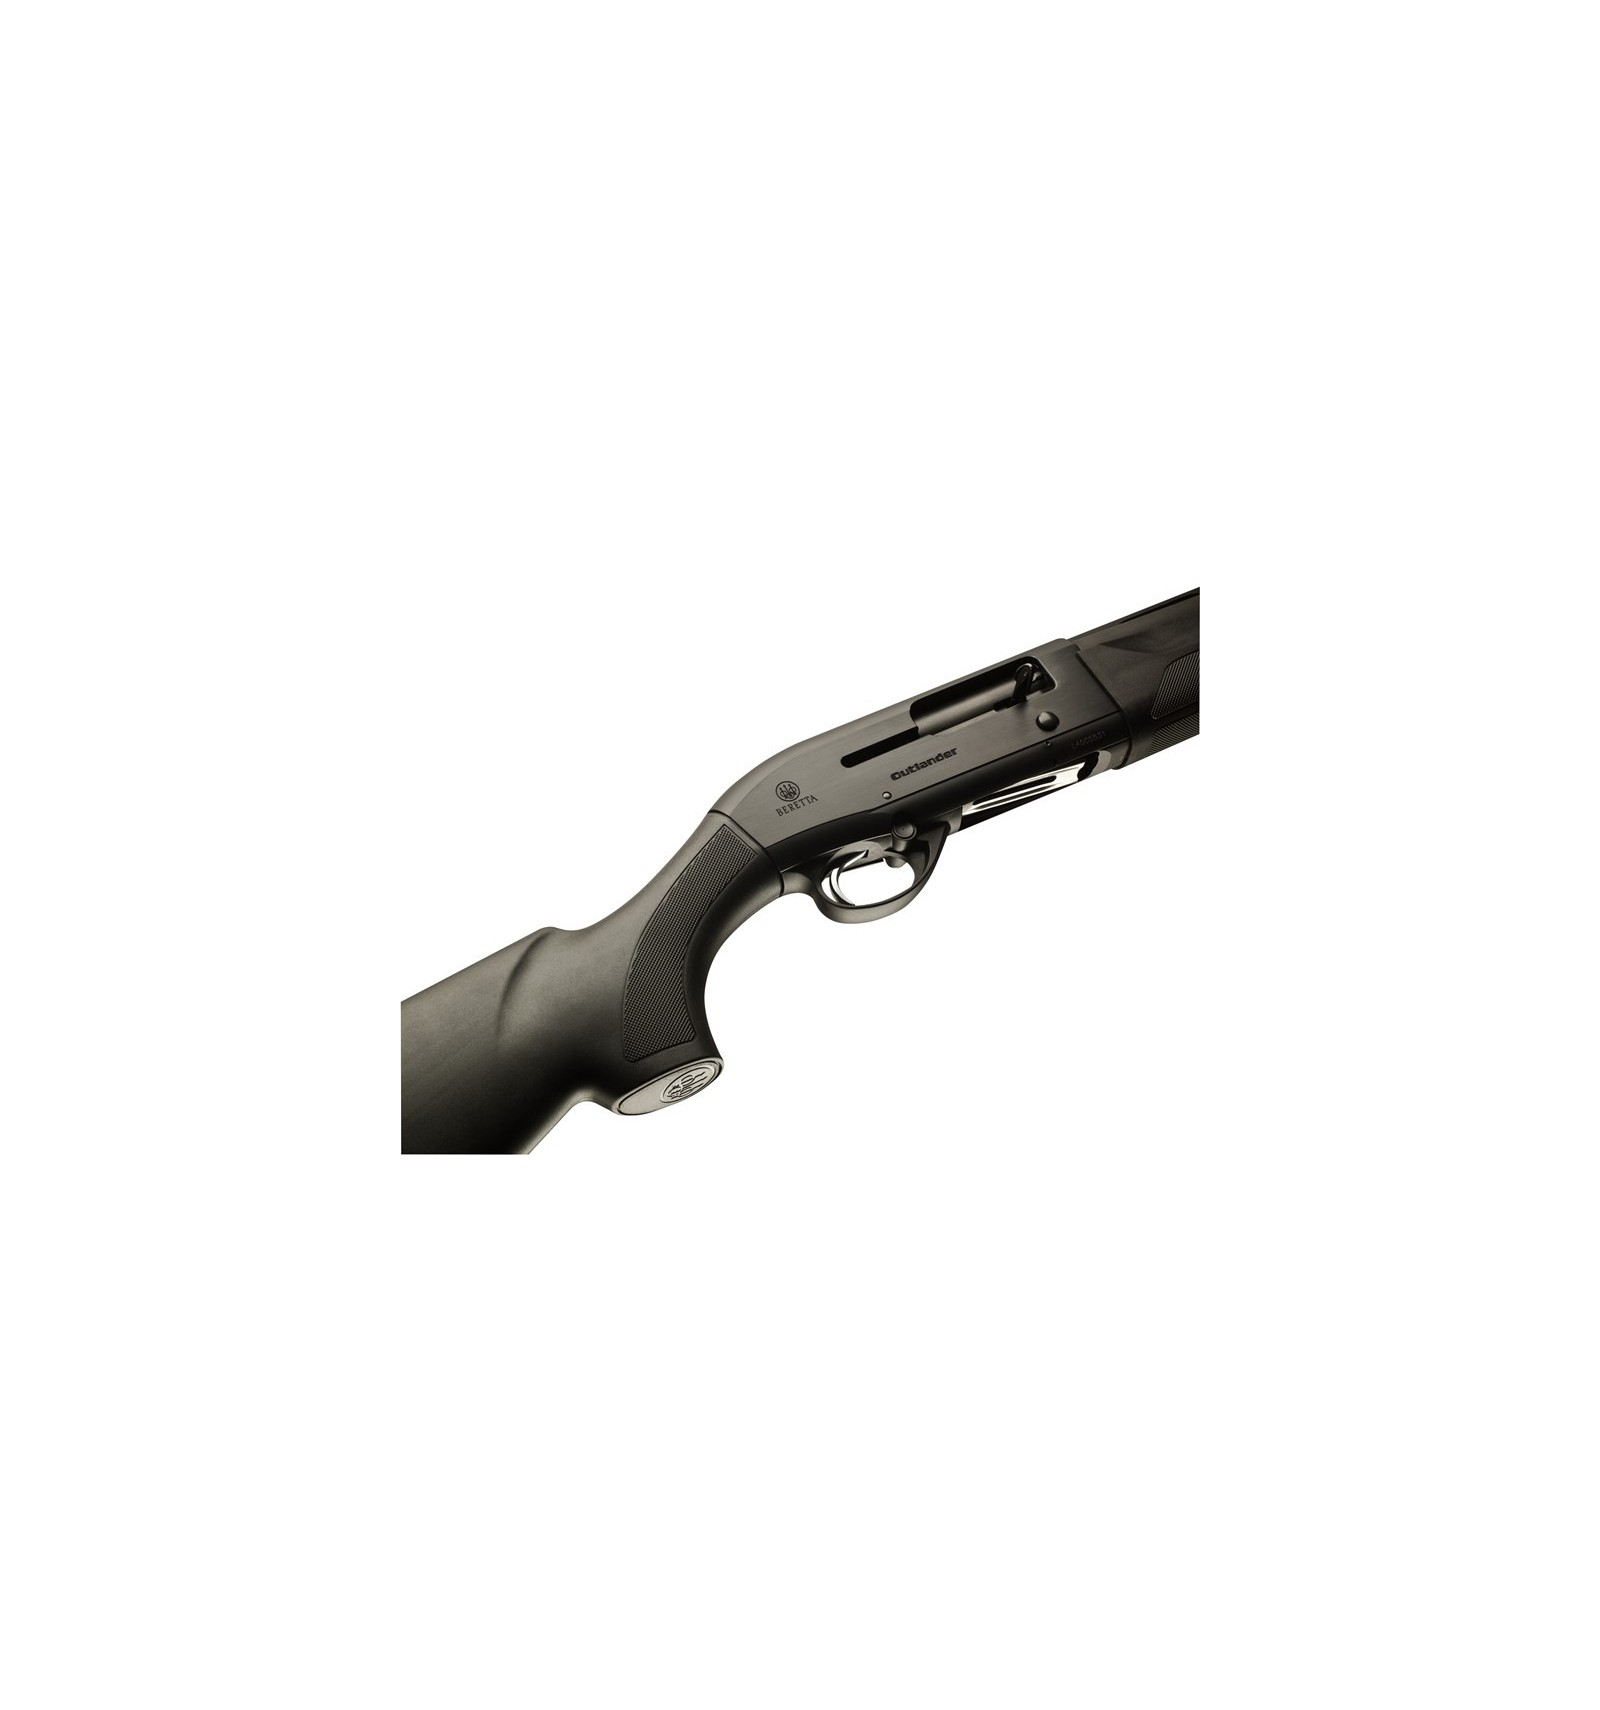weapon: (402, 587, 1195, 1152)
